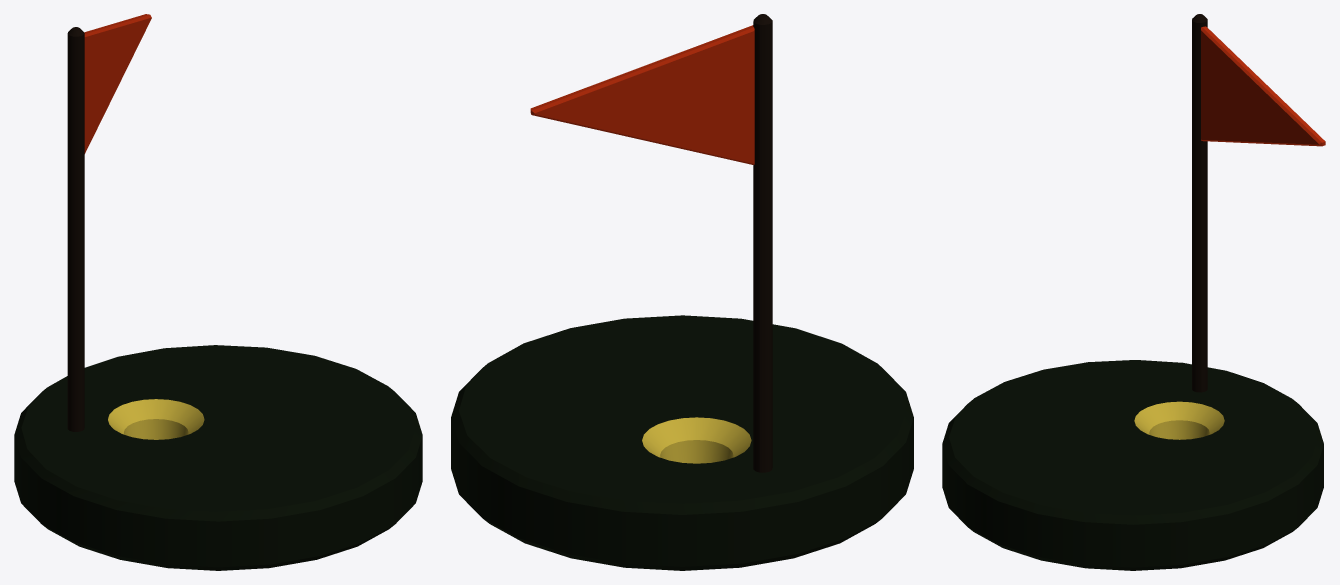
File: Golf hole.FBX
The picture shows the model from 3 angles, left to right: view 1: azimuth 30°, elevation 25°; view 2: azimuth 150°, elevation 25°; view 3: azimuth 270°, elevation 25°; orthographic projection. The views are drawn at different scales.
Parts seen in each view (by area): view 1: Golf hole; view 2: Golf hole; view 3: Golf hole.
Part boxes in pixels (x1,y1,x2,y2): Golf hole: (14, 14, 422, 570); Golf hole: (451, 14, 913, 570); Golf hole: (942, 14, 1325, 570).
Bounding box in the file's own units: 877 × 881 × 1088.
